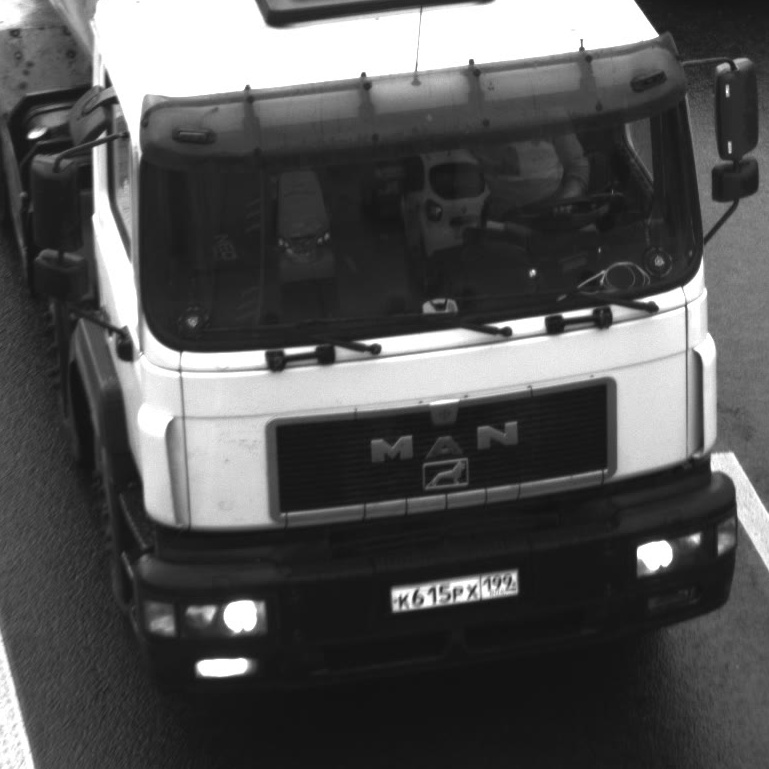plate: (378, 555, 530, 620)
